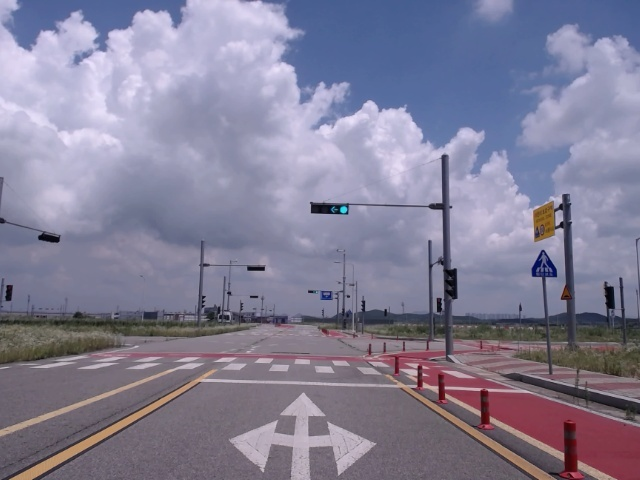all_green_4: (308, 202, 351, 216)
